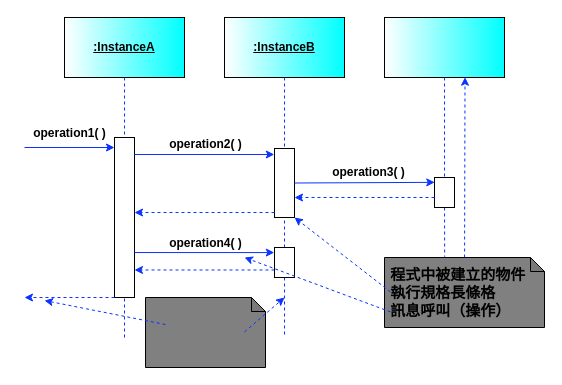
Some shapes in this 562 by 385 pixel diagram are drawn without their labels. The box of each missing label's shape, as (x1, y1, x2, y2) in pixels:
:InstanceC: (384, 16, 504, 78)
回覆訊息 物件生命線: (144, 296, 266, 368)
